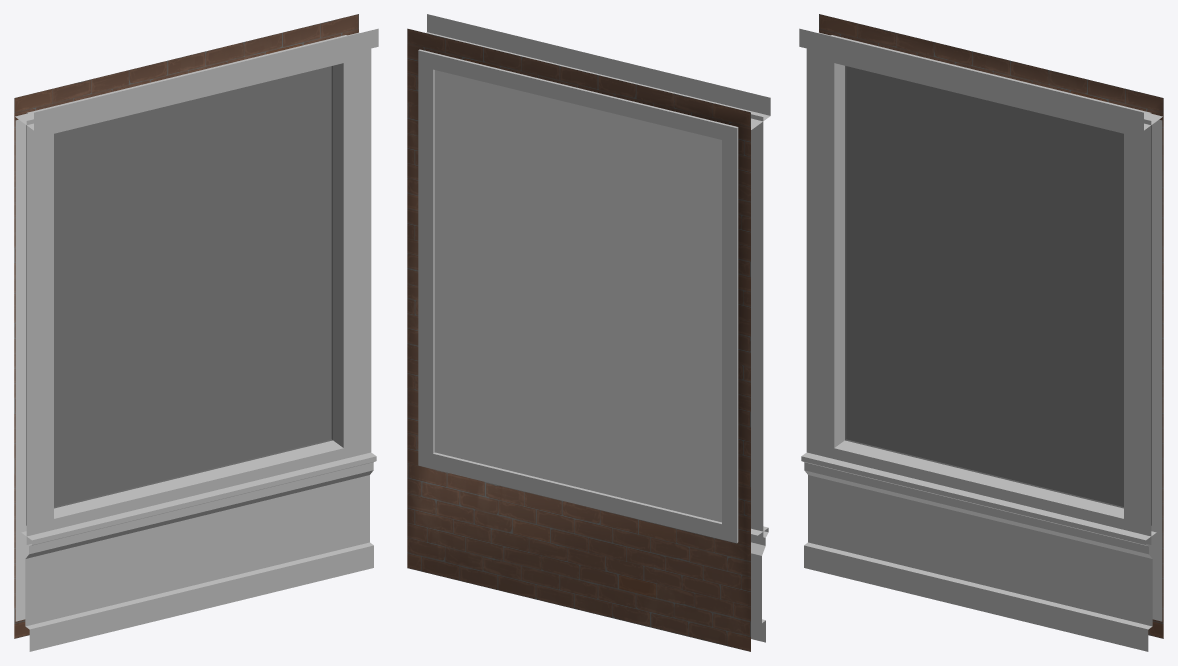
The model's file is Trim_FirstFloor_Window_001.gltf.
The picture shows the model from 3 angles, left to right: view 1: azimuth 30°, elevation 25°; view 2: azimuth 150°, elevation 25°; view 3: azimuth 330°, elevation 25°; orthographic projection.
Parts seen in each view (by area): view 1: Trim_FirstFloor_Window.001; view 2: Trim_FirstFloor_Window.001; view 3: Trim_FirstFloor_Window.001.
Part boxes in pixels (x1,y1,x2,y2): Trim_FirstFloor_Window.001: [14, 14, 378, 651]; Trim_FirstFloor_Window.001: [407, 14, 770, 651]; Trim_FirstFloor_Window.001: [799, 14, 1163, 651].
Size of the model in its own units: 2 by 3.01 by 0.2151.
